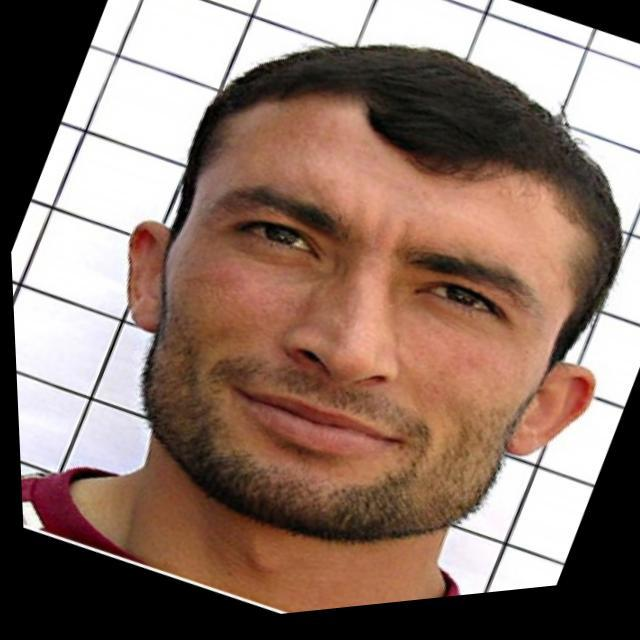Nonhelmet: (116, 32, 598, 544)
